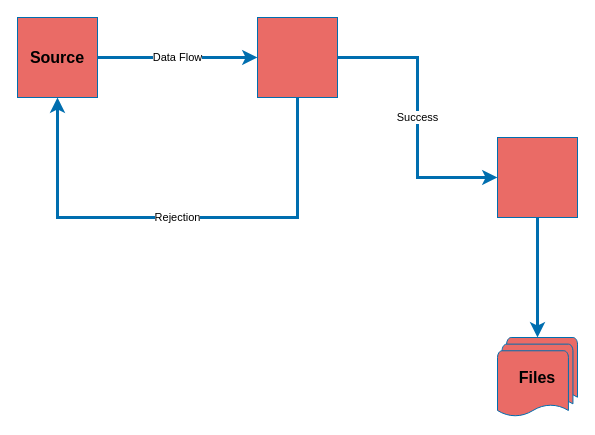
Some shapes in this 595 by 435 pixel diagram are drawn without their labels. Here are the shapes that lost their labels. From the top down, the centre of each, then its label:
(297,57): Check
(537,177): Auth
